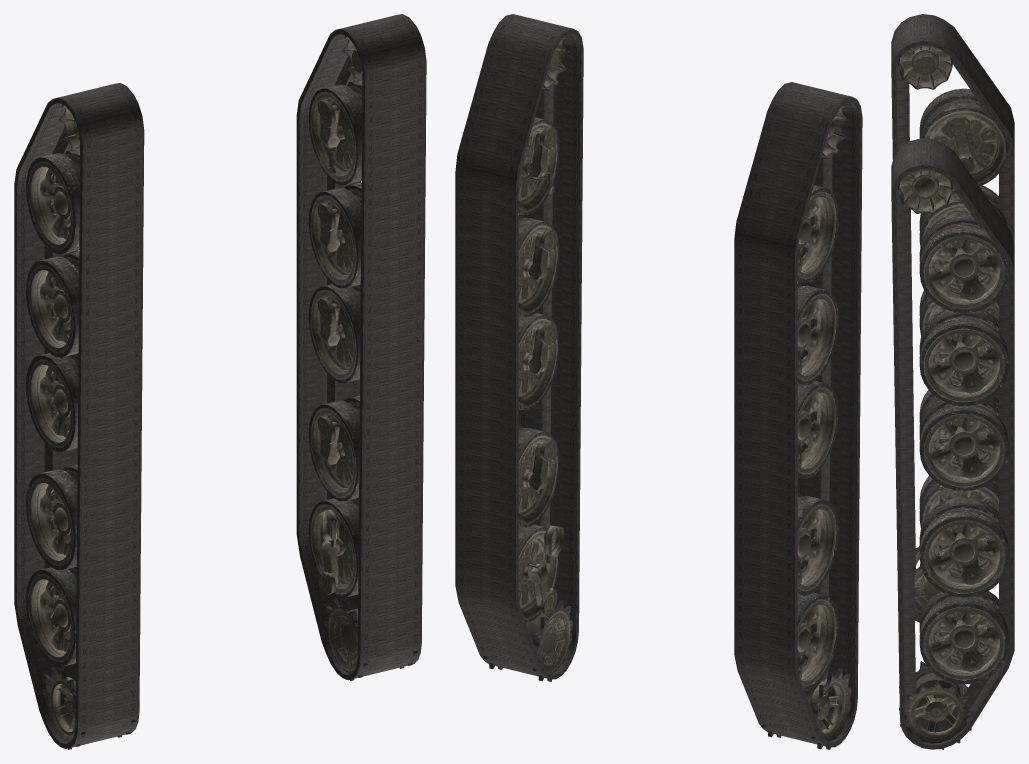
Rendered from Chassis.glb.
3 renders of one model, left to right at view 1: azimuth 30°, elevation 25°; view 2: azimuth 150°, elevation 25°; view 3: azimuth 270°, elevation 25°, orthographic. The views are drawn at different scales.
Parts seen in each view (by area): view 1: set_1_group_0, set_0_group_0, set_3_group_0, set_2_group_0; view 2: set_1_group_0, set_0_group_0, set_3_group_0, set_2_group_0; view 3: set_3_group_0, set_0_group_0, set_2_group_0, set_1_group_0.
Boxes of the visible parts, <box> form: set_1_group_0: <box>14,83,144,748</box>; set_0_group_0: <box>296,14,426,680</box>; set_3_group_0: <box>308,36,418,680</box>; set_2_group_0: <box>26,105,136,749</box>; set_1_group_0: <box>734,82,862,747</box>; set_0_group_0: <box>455,14,583,679</box>; set_3_group_0: <box>483,36,572,681</box>; set_2_group_0: <box>762,104,851,749</box>; set_3_group_0: <box>898,169,1008,749</box>; set_0_group_0: <box>891,138,1014,749</box>; set_2_group_0: <box>898,45,1008,614</box>; set_1_group_0: <box>891,14,1014,622</box>.
Bounding box in the file's own units: 3.23 × 5.86 × 1.11.
4 materials, 4 textured.
